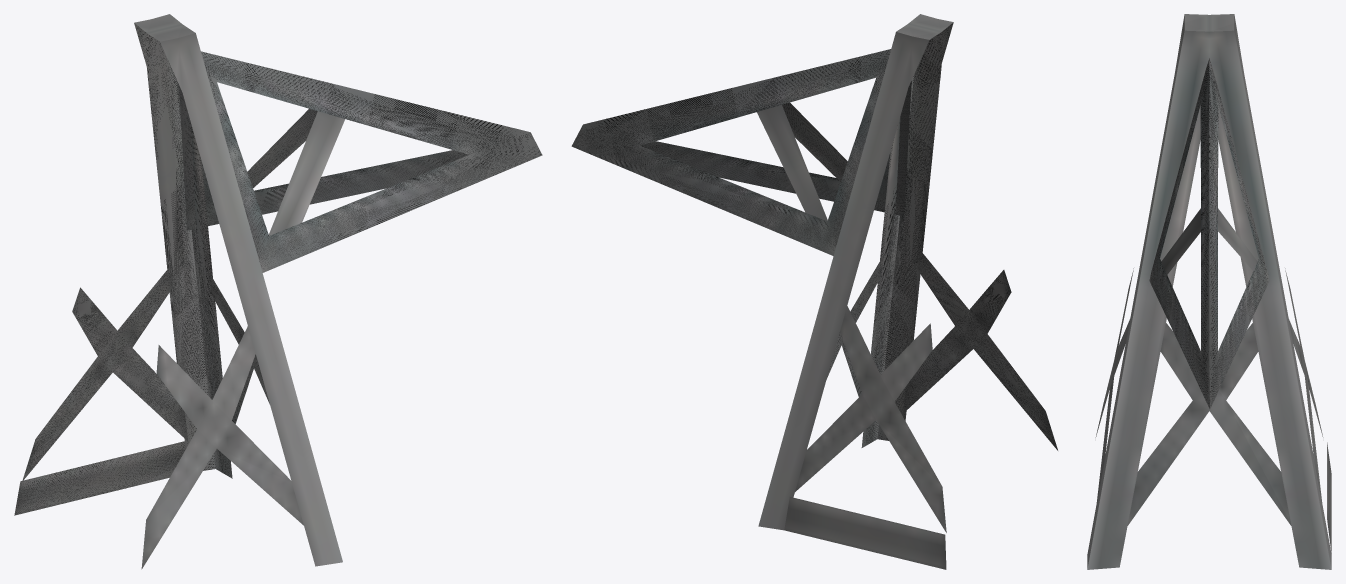
File: B2Broke3.FBX
3 renders of one model, left to right at view 1: azimuth 30°, elevation 25°; view 2: azimuth 150°, elevation 25°; view 3: azimuth 270°, elevation 25°, orthographic. The views are drawn at different scales.
Visible parts, largest first — view 1: B2Broke3 (×2); view 2: B2Broke3 (×2); view 3: B2Broke3 (×2).
Part boxes in pixels (x1,y1,x2,y2): B2Broke3 (×2): (14,14,542,569); B2Broke3 (×2): (571,14,1057,569); B2Broke3 (×2): (1087,14,1331,569).
Bounding box in the file's own units: 64.72 × 68.63 × 30.74.
